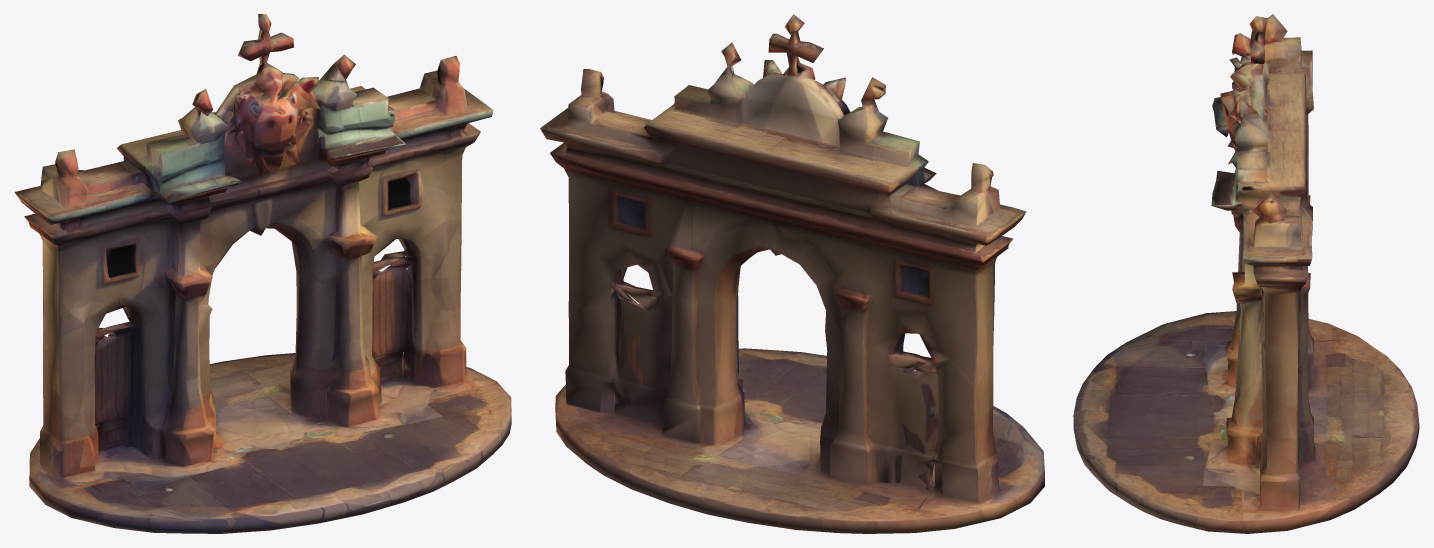
The model's file is Create_a_3D_model_of__0208134925_texture.fbx.
3 views of the same model, side by side, from view 1: azimuth 30°, elevation 25°; view 2: azimuth 150°, elevation 25°; view 3: azimuth 270°, elevation 25° (orthographic). The views are drawn at different scales.
Parts seen in each view (by area): view 1: Mesh1_Mesh1.015; view 2: Mesh1_Mesh1.015; view 3: Mesh1_Mesh1.015.
Boxes of the visible parts, bbox=[...] form: Mesh1_Mesh1.015: bbox=[14, 14, 511, 533]; Mesh1_Mesh1.015: bbox=[540, 14, 1044, 533]; Mesh1_Mesh1.015: bbox=[1073, 14, 1419, 533].
Bounding box in the file's own units: 200 × 182 × 138.
Materials: 1 (1 with a texture image).
